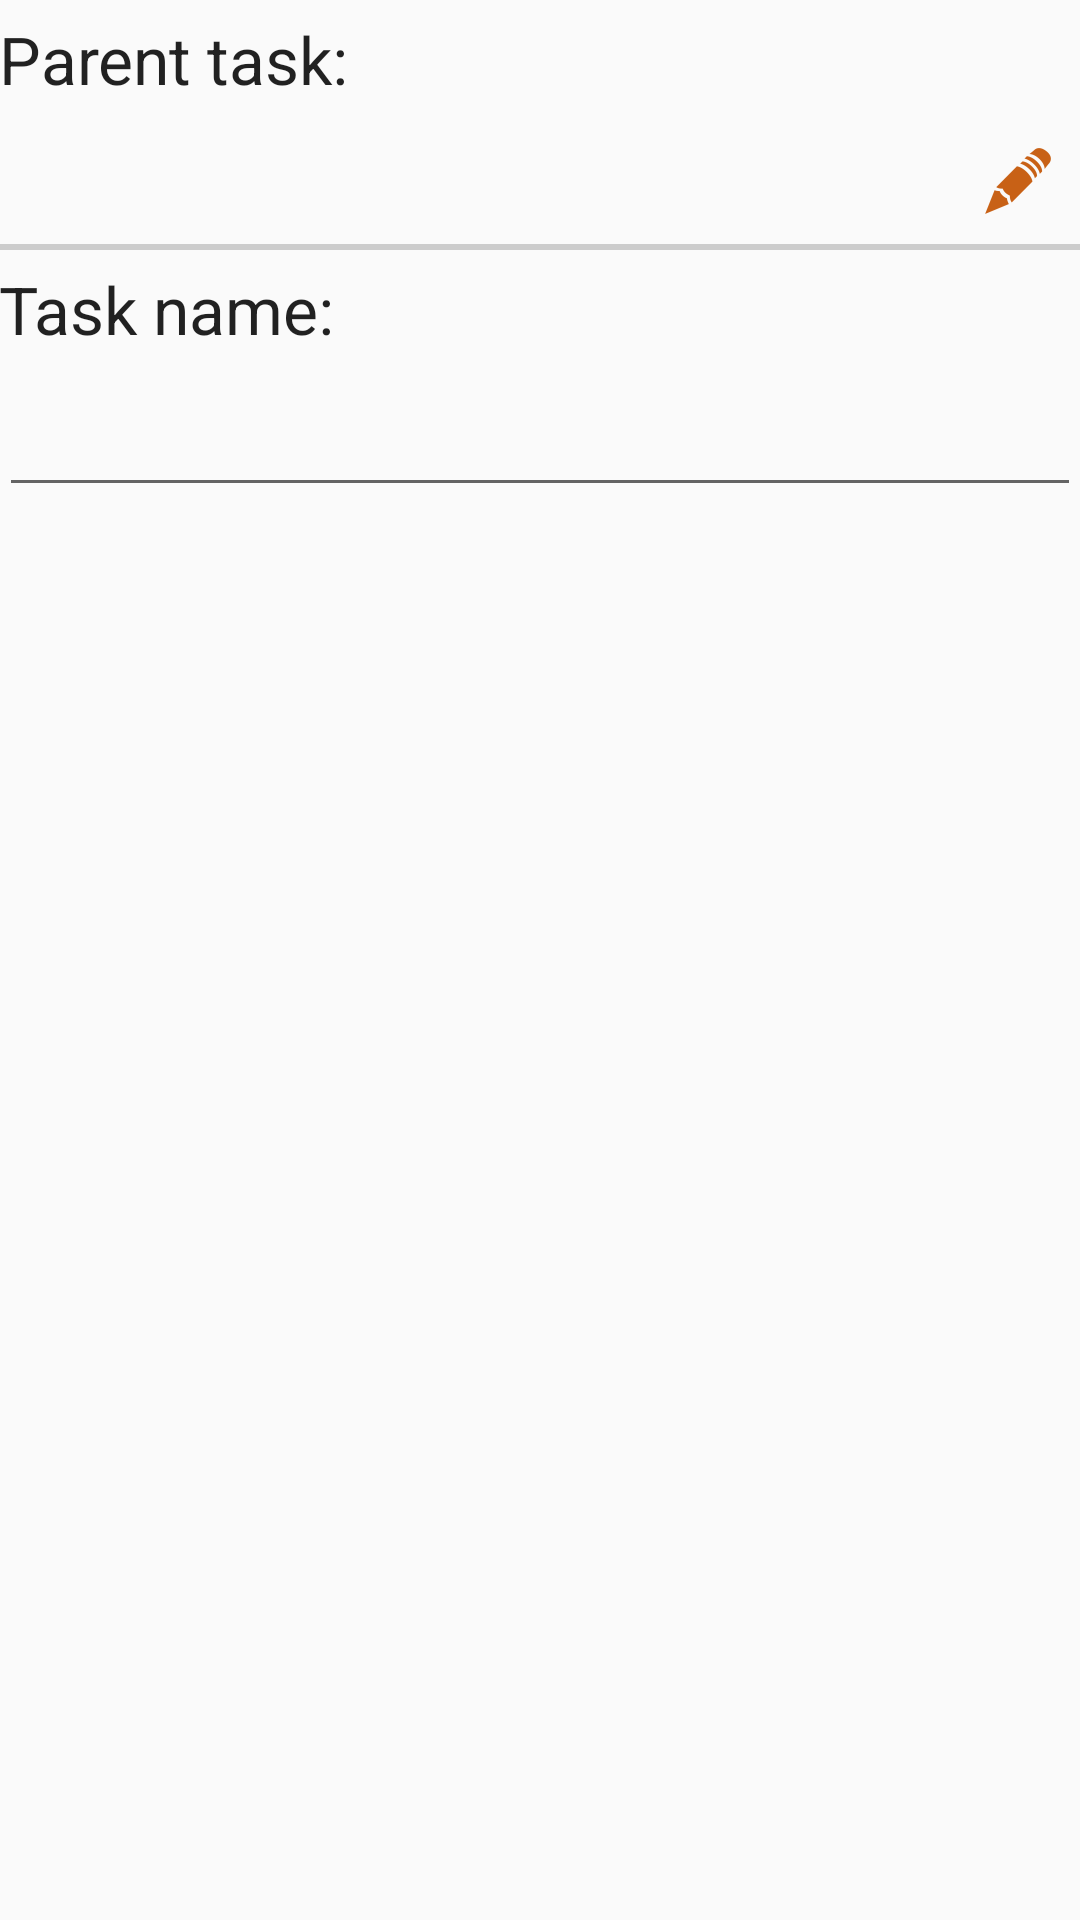

Icon bounding boxes for this 1080*1920 phone screenshot, format (x1, y1, x2, y2):
Edit: (985, 148, 1051, 214)
